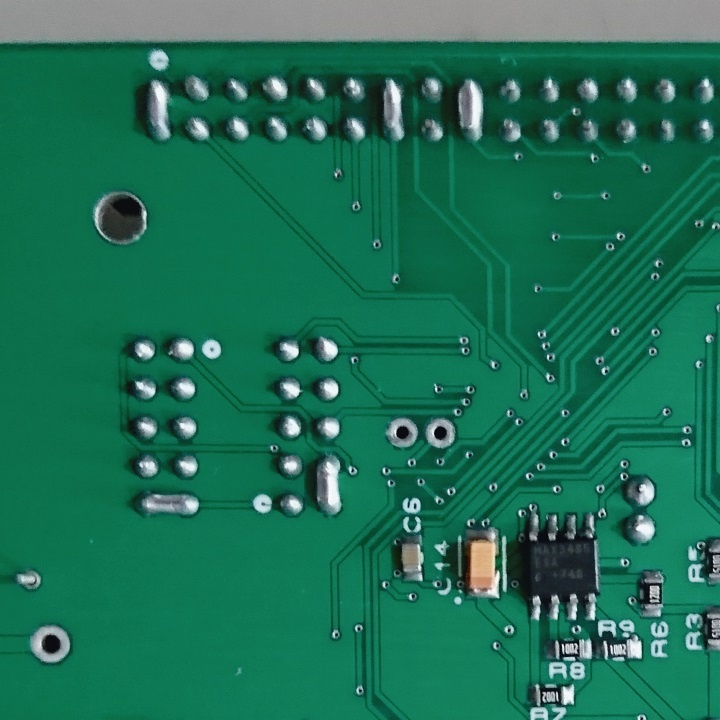F: (26, 620, 75, 666), (421, 414, 459, 451), (384, 414, 419, 452), (10, 566, 47, 594)
P: (129, 484, 204, 521), (311, 449, 346, 522), (453, 73, 486, 146), (377, 74, 410, 146), (141, 75, 174, 146)
